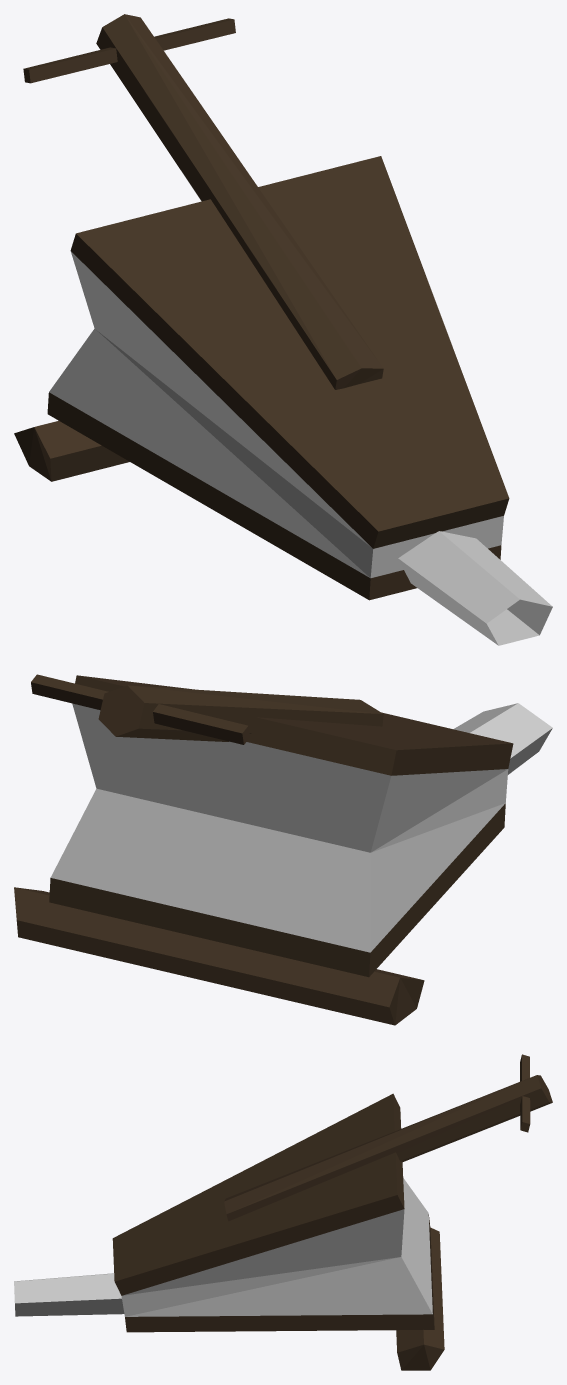
The model's file is BELLOW_MINE.OBJ.
The picture shows the model from 3 angles, top to bottom: view 1: azimuth 30°, elevation 25°; view 2: azimuth 150°, elevation 25°; view 3: azimuth 270°, elevation 25°; orthographic projection. The views are drawn at different scales.
Visible parts, largest first — view 1: BELLOW_MINE; view 2: BELLOW_MINE; view 3: BELLOW_MINE.
Part boxes in pixels (<box>): BELLOW_MINE: <box>14,14,552,645</box>; BELLOW_MINE: <box>14,674,552,1025</box>; BELLOW_MINE: <box>14,1054,552,1370</box>.
Bounding box in the file's own units: 1.76 × 1.55 × 3.23.
